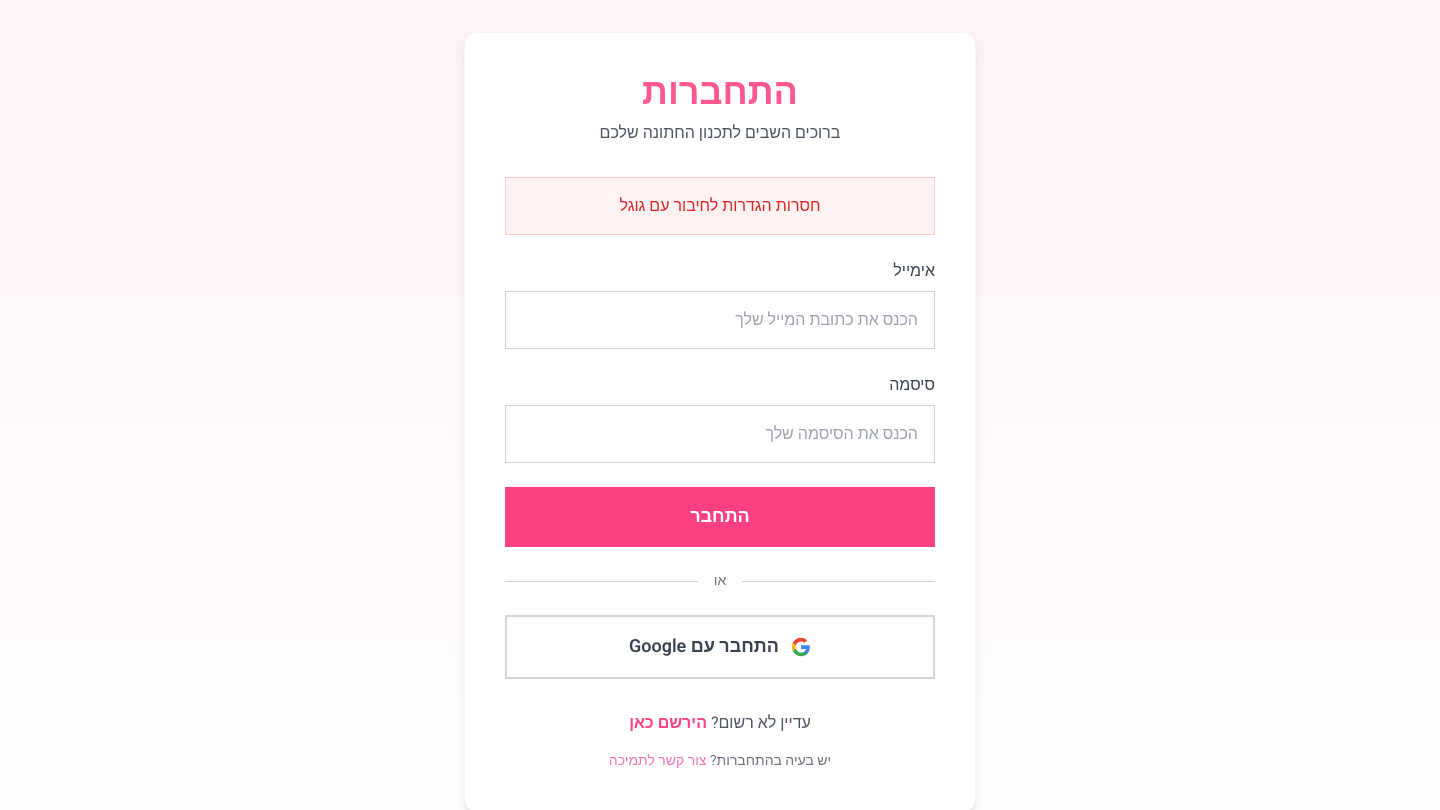
Scenario: Login Page › initiates Google login when Google button is clicked
Click the button "התחבר עם Google" at (720, 647), box 505,615 -> 935,679
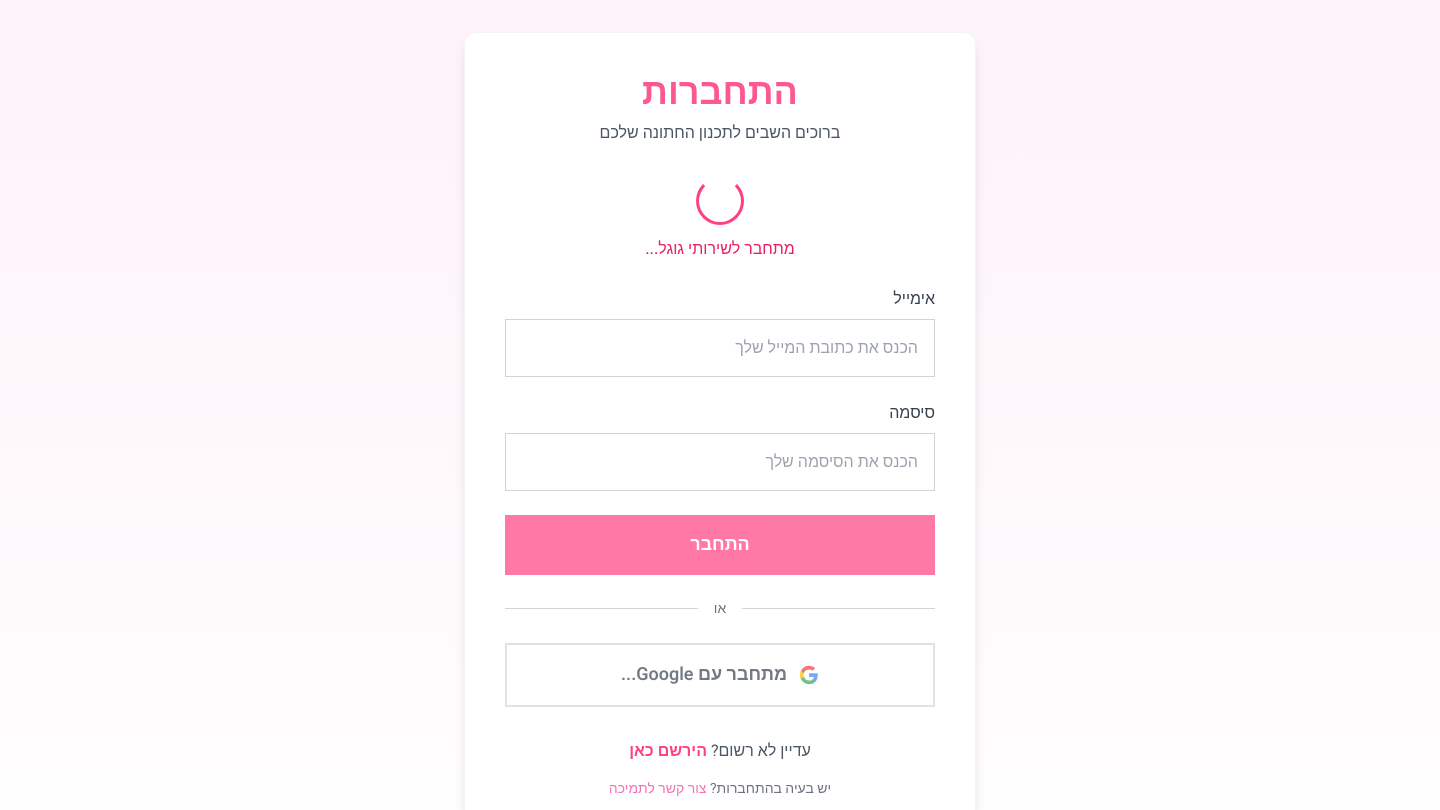
Expected: the button "מתחבר עם Google..." is shown, 505,643 -> 935,707
